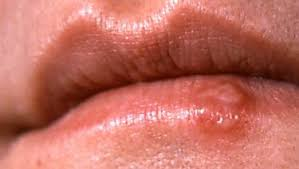herpes: (182, 84, 258, 142)
